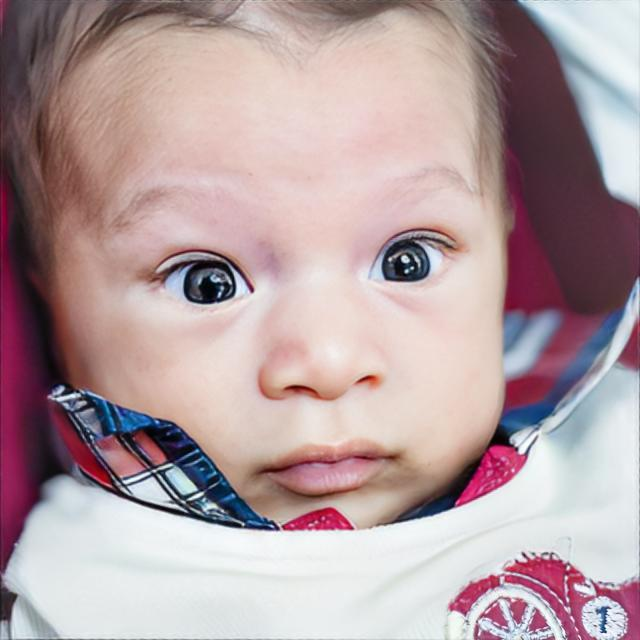surprise: (3, 0, 510, 530)
